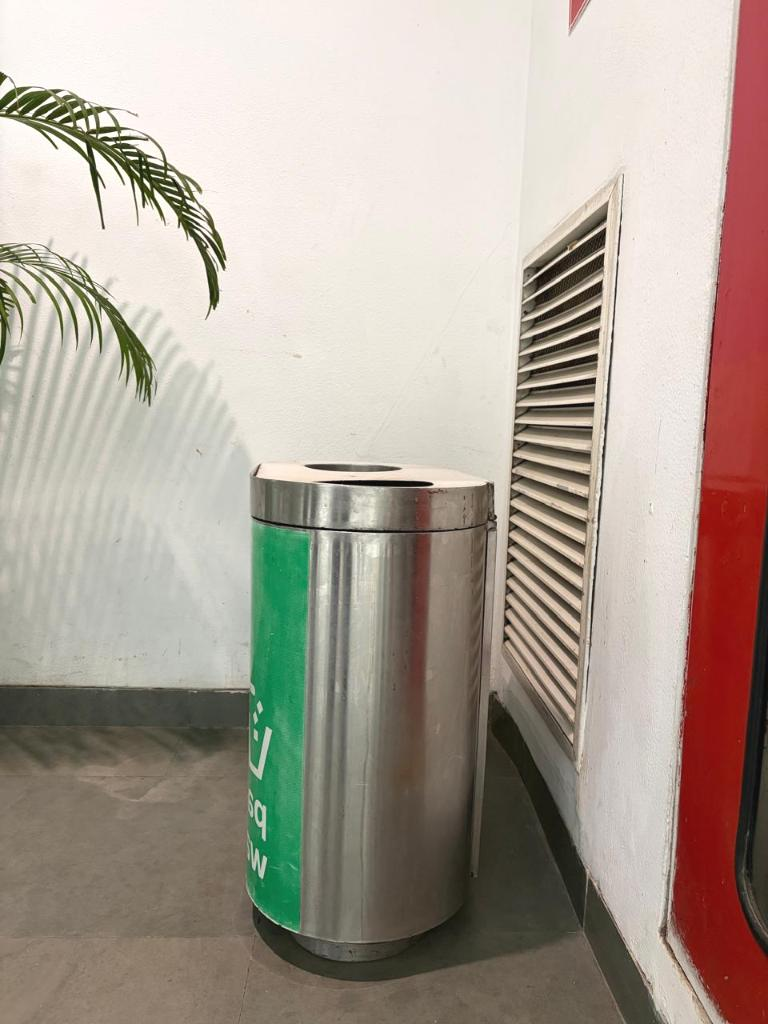dustbin: (214, 428, 507, 979)
